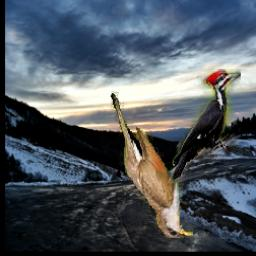Cuckoo: (112, 92, 194, 239)
Woodpecker: (164, 70, 241, 189)
